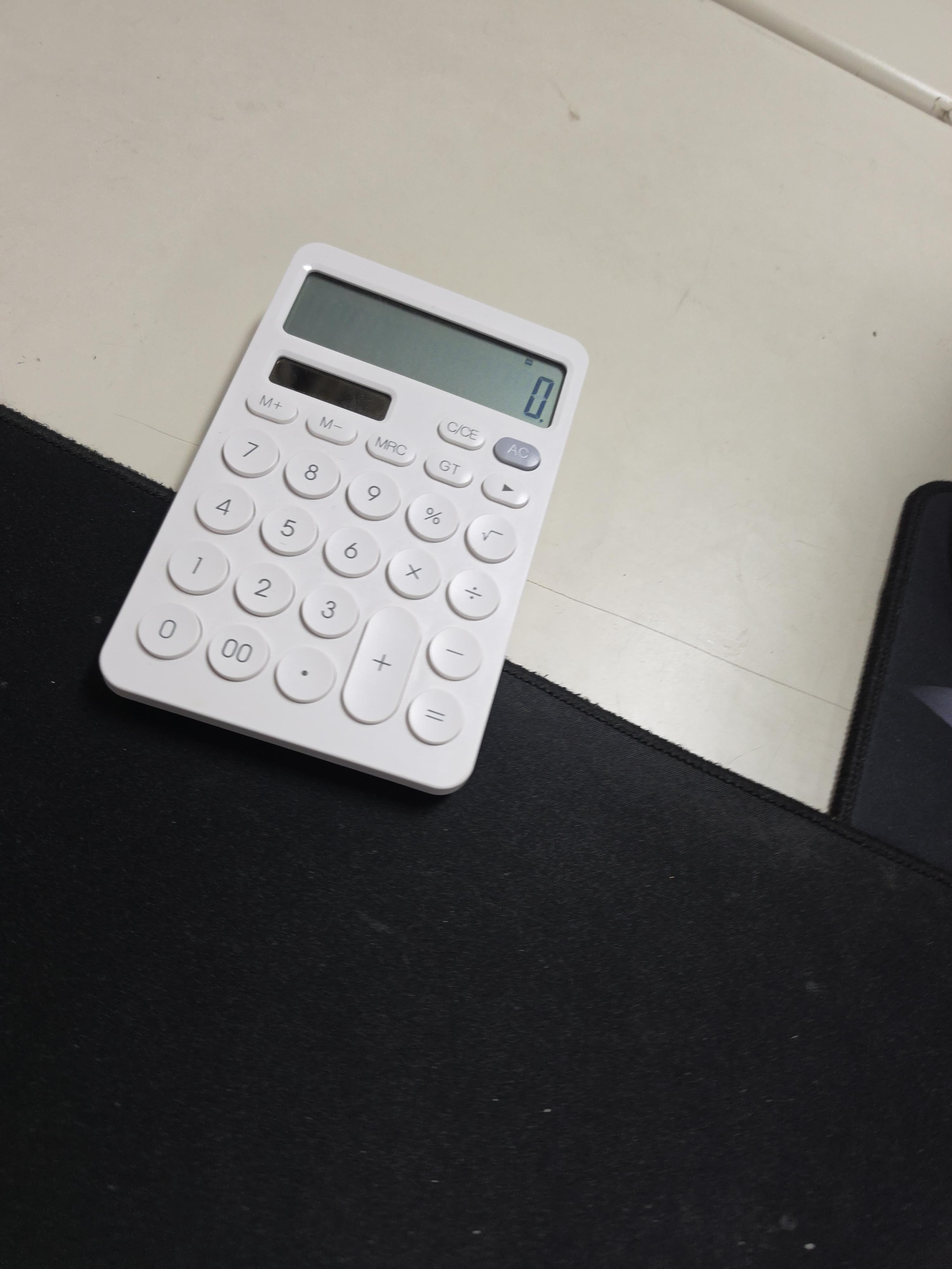calculator: (98, 241, 590, 796)
